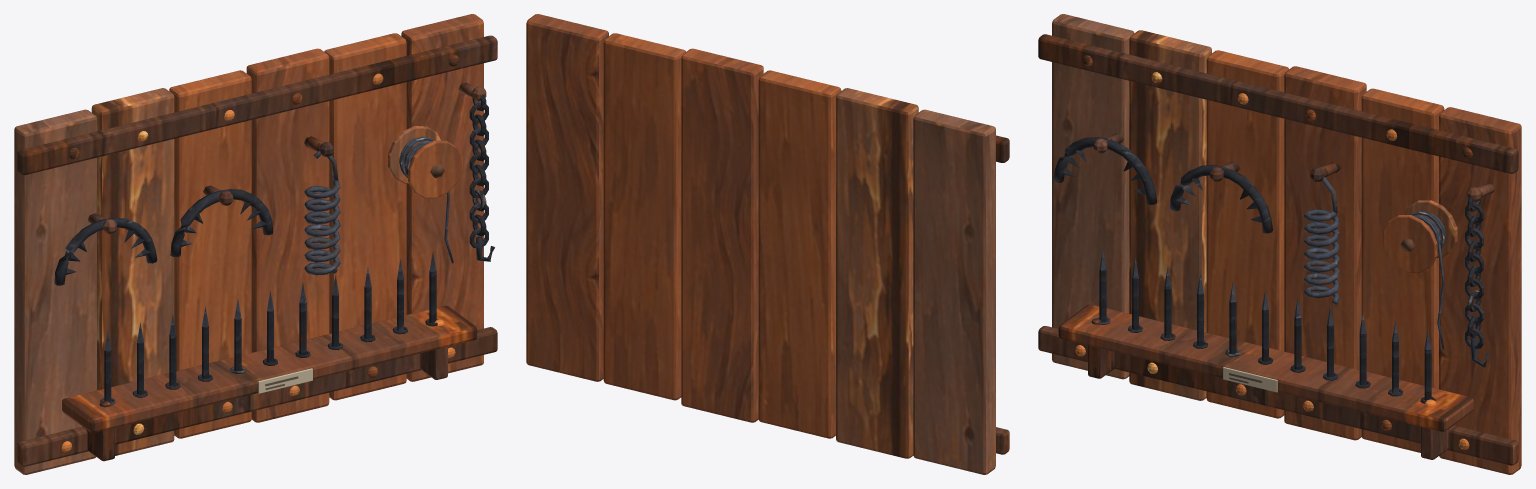
The model's file is op_trap_parts_rack.glb.
3 renders of one model, left to right at view 1: azimuth 30°, elevation 25°; view 2: azimuth 150°, elevation 25°; view 3: azimuth 330°, elevation 25°, orthographic.
Visible parts, largest first — view 1: model; view 2: model; view 3: model.
Part boxes in pixels (left/top/right/bottom): model: left=14, top=14, right=497, bottom=474; model: left=526, top=14, right=1009, bottom=474; model: left=1038, top=14, right=1521, bottom=474.
Size of the model in its own units: 1.23 by 0.8689 by 0.191.
16 materials, 14 textured.
